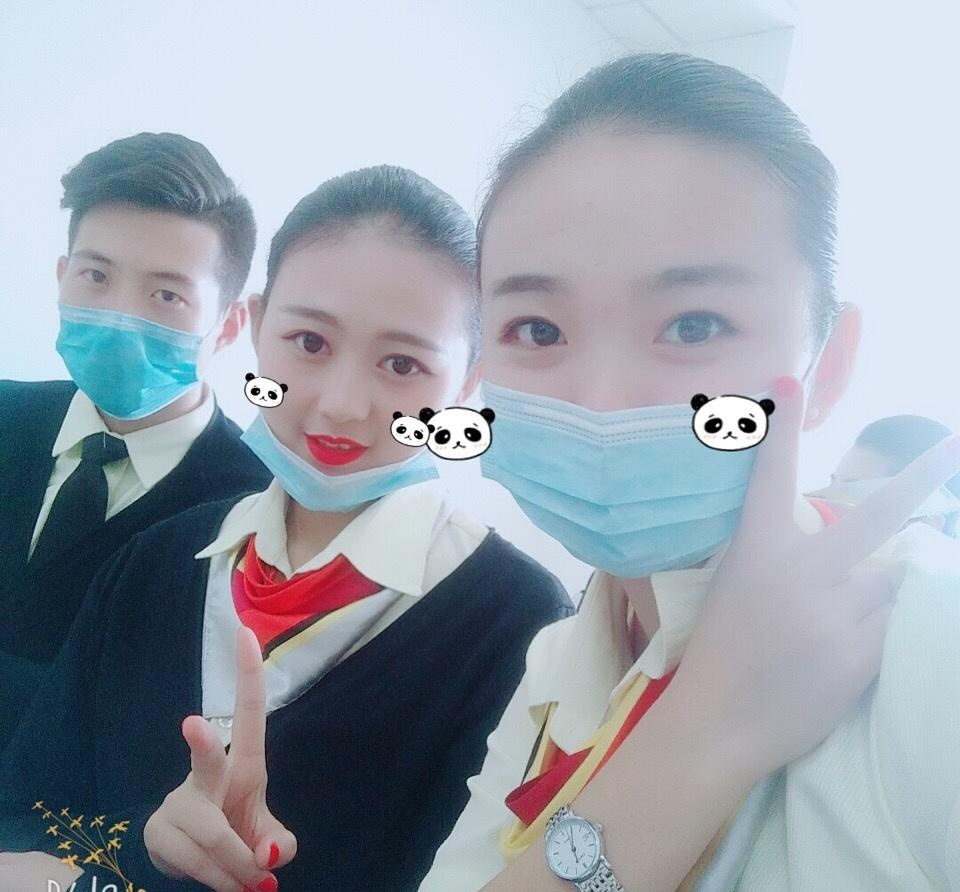Mask: (476, 224, 827, 574)
